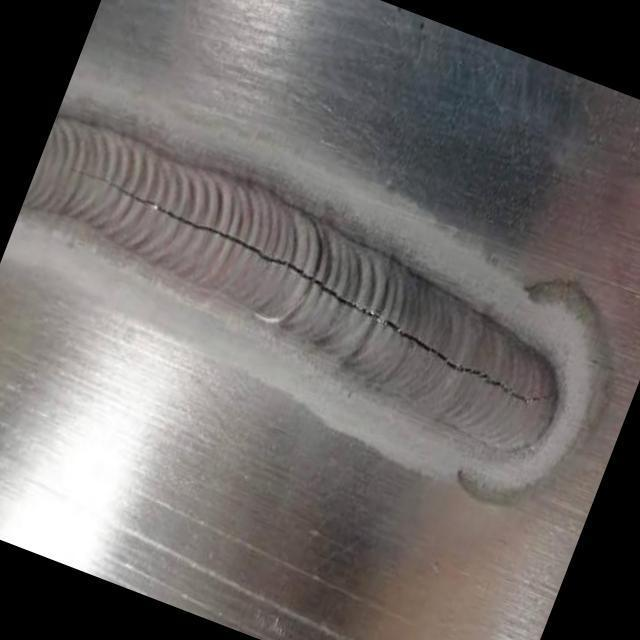defect: (66, 166, 557, 408)
